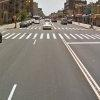Crosswalk: (5, 28, 100, 51)
